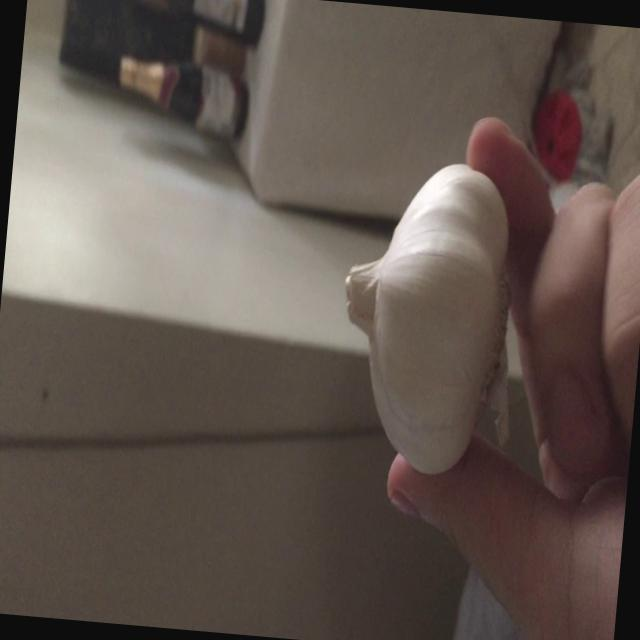bawang: (323, 146, 525, 488)
